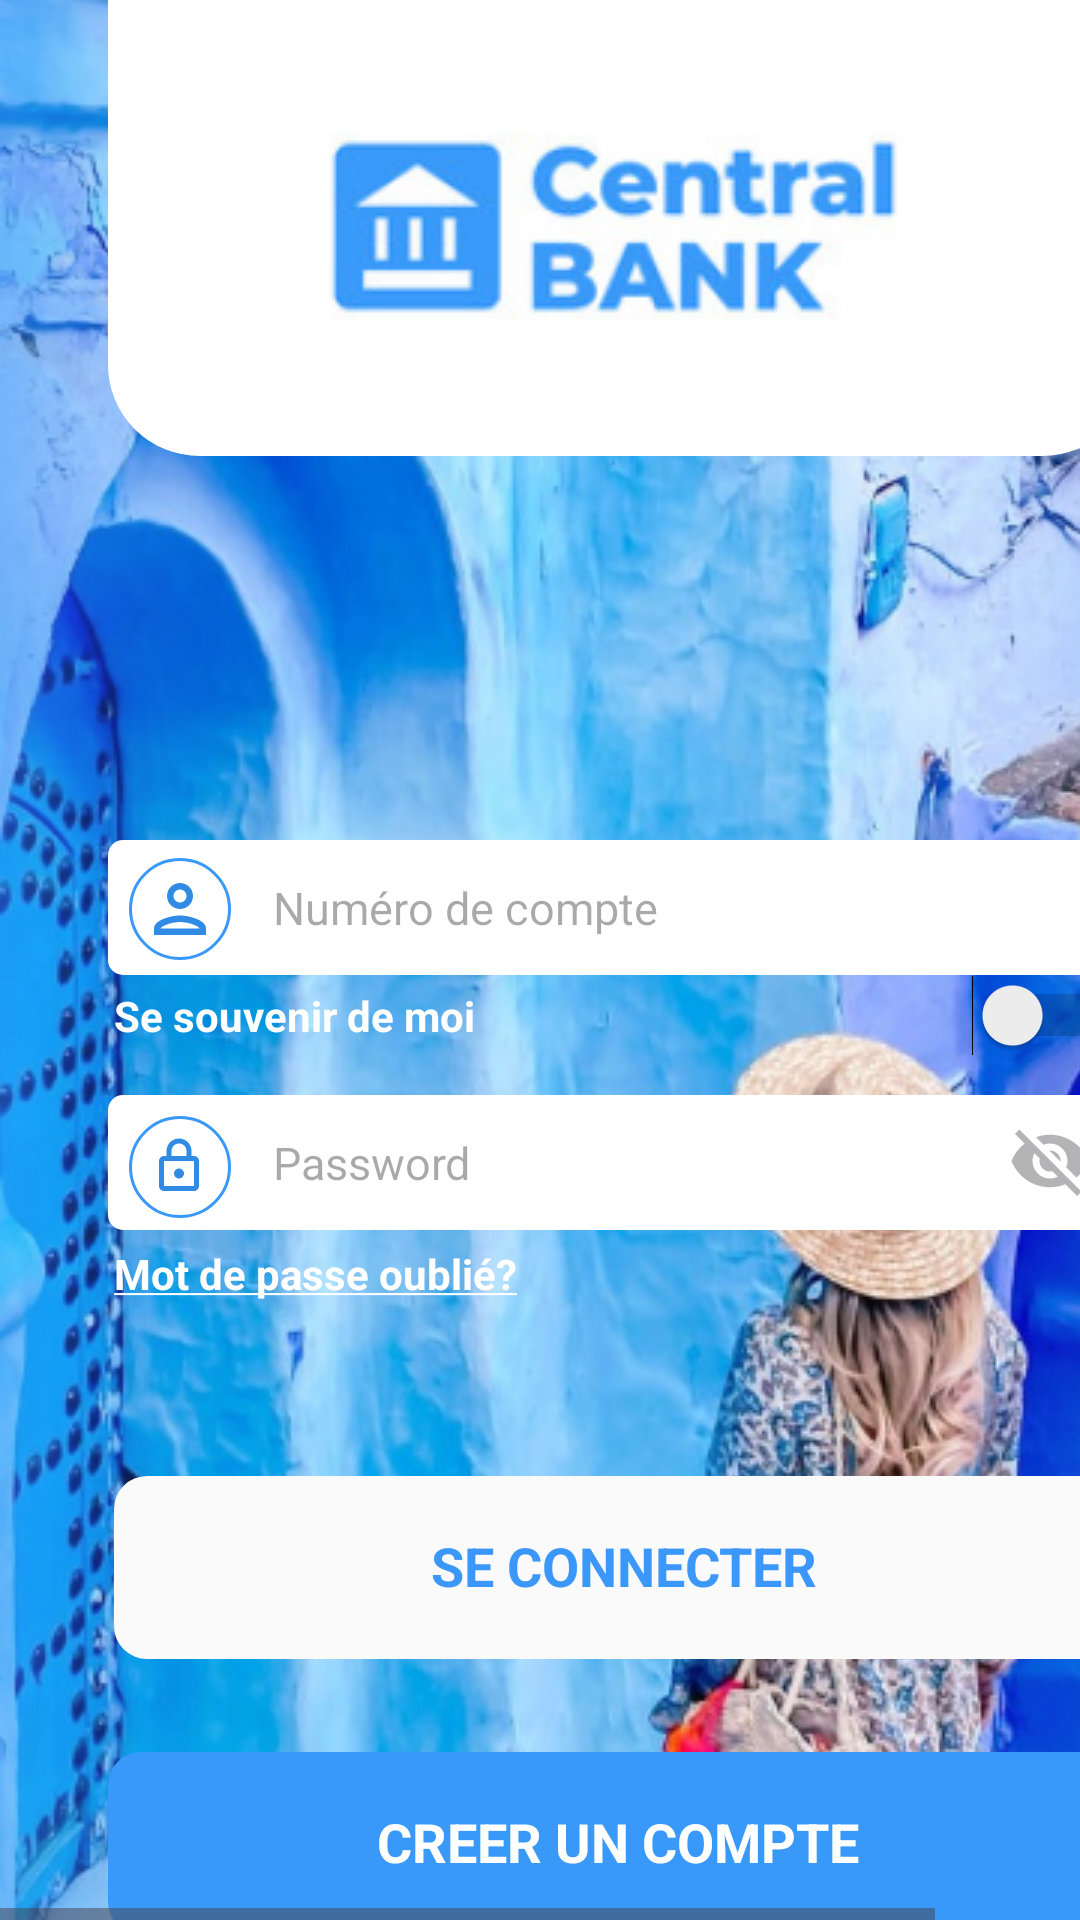

Icon click points for this 1080 x 1920 phone screenshot, format [x,y]:
padlock: [179,1164]
person: [180,909]
